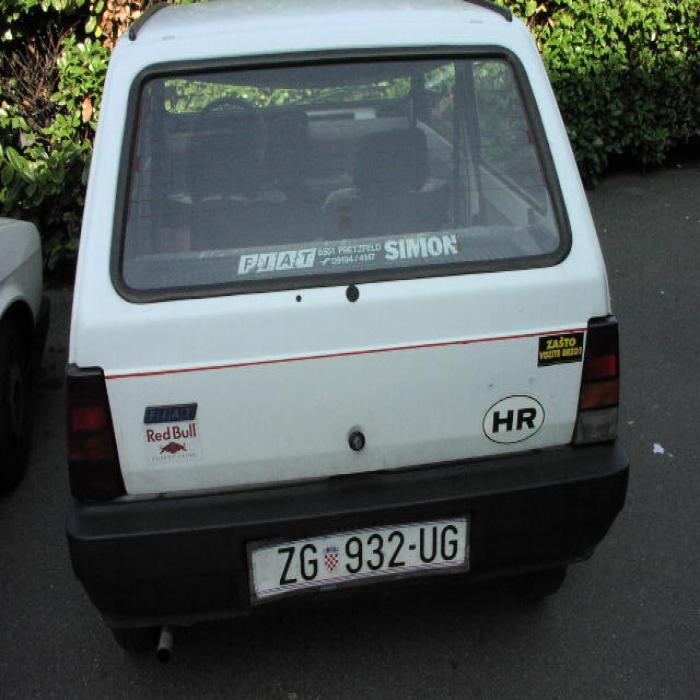number_plate: (255, 522, 466, 598)
